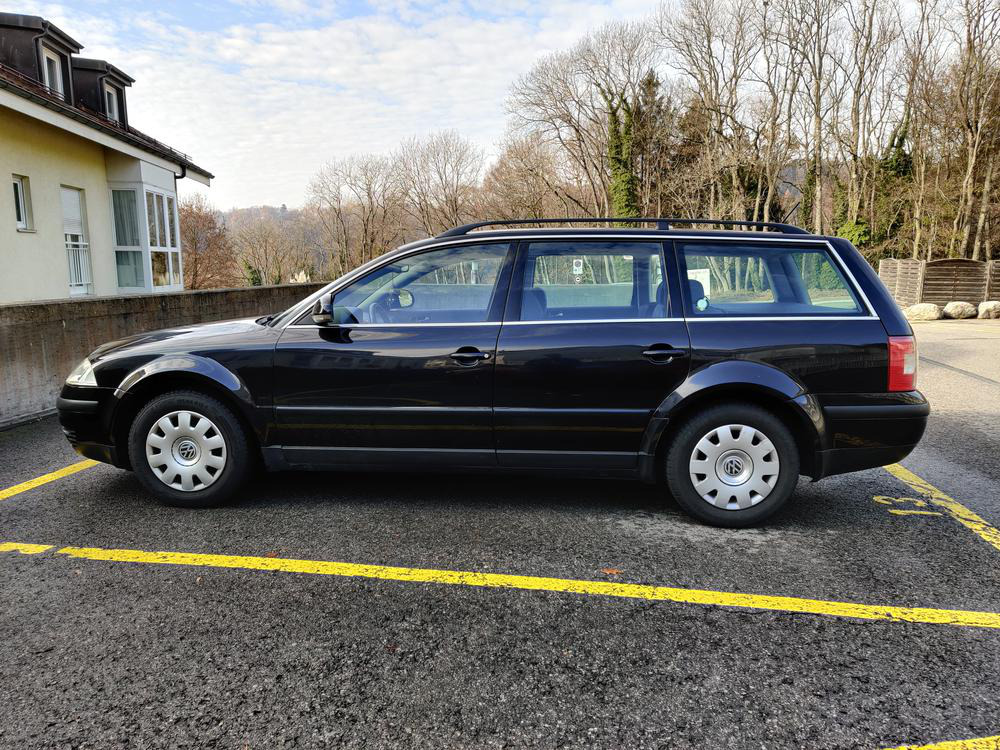mobil: (49, 210, 936, 529)
